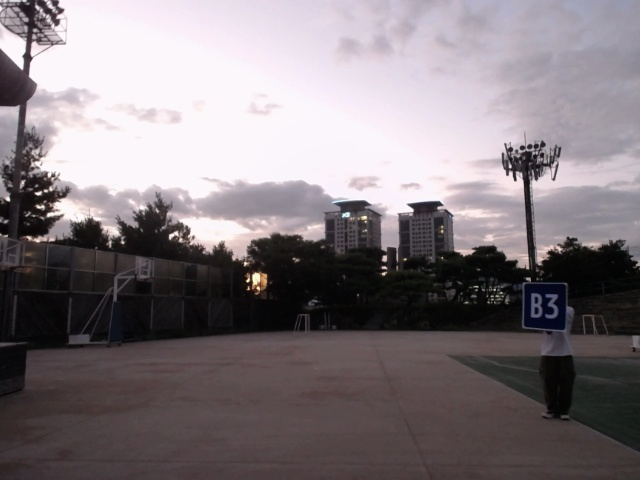delivery_b3: (522, 281, 568, 333)
